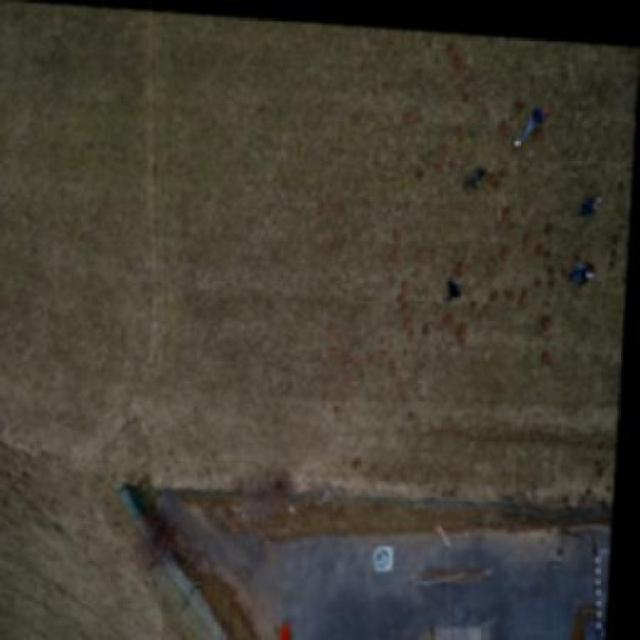Person: (516, 91, 555, 137), (565, 245, 604, 283), (438, 256, 470, 298), (576, 179, 610, 216), (460, 151, 489, 189)
